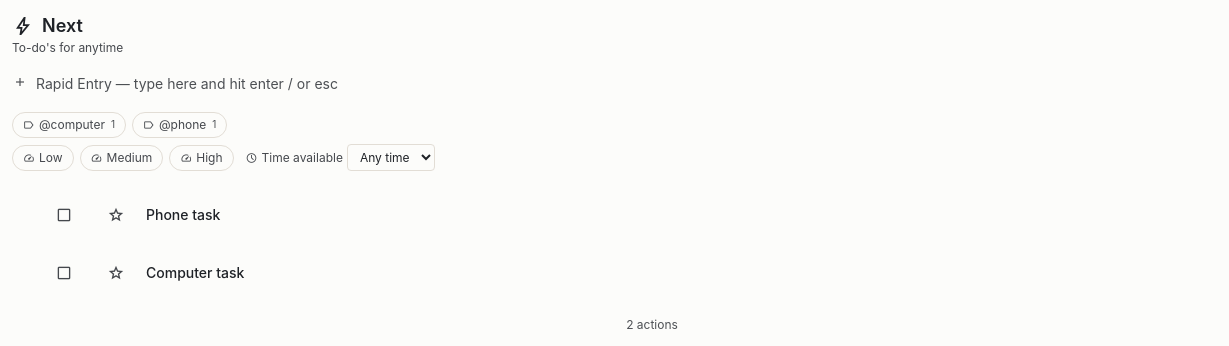
Scenario: ActionList › Clear button resets to showing all things
Click the checkbox labelled "@phone 1". click: (180, 125)
box: [132,112,227,138]
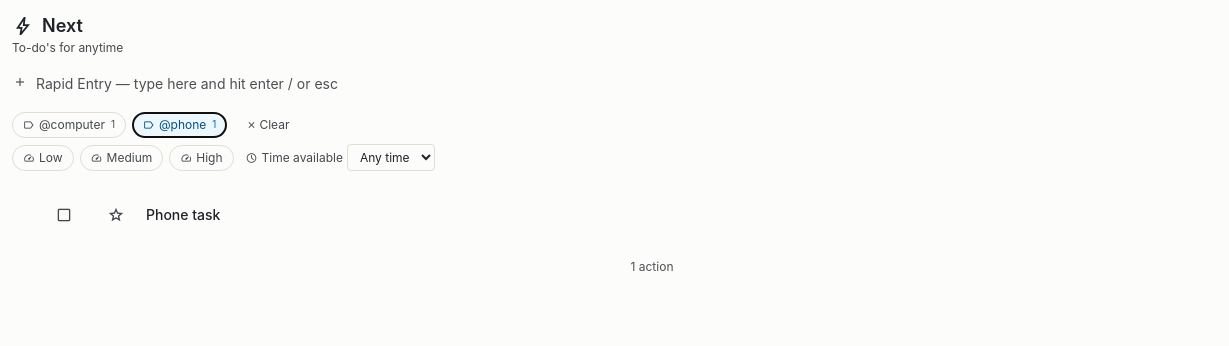
Expected: the button "Computer task" is gone
Click the button with aria-label "Clear context filters". click: (267, 125)
box: [237,113,297,137]
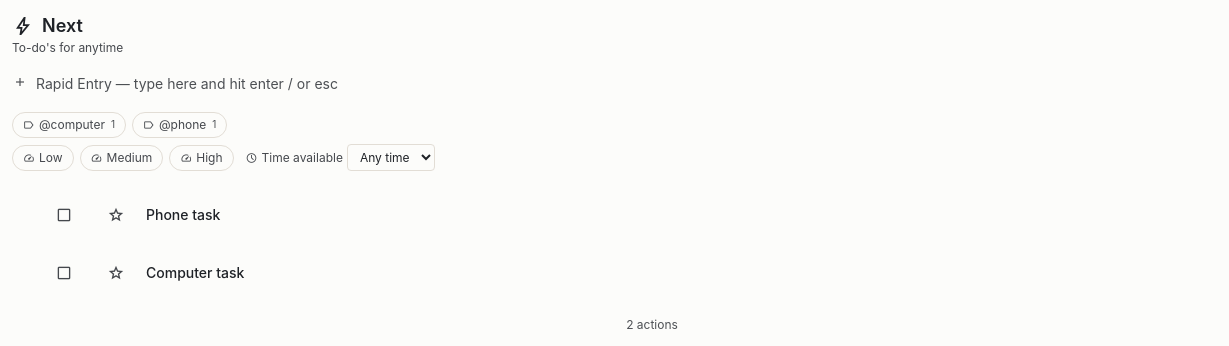
Expected: the button "Phone task" is shown, [146,205,1212,225]
Expected: the button "Computer task" is shown, [146,263,1212,283]
